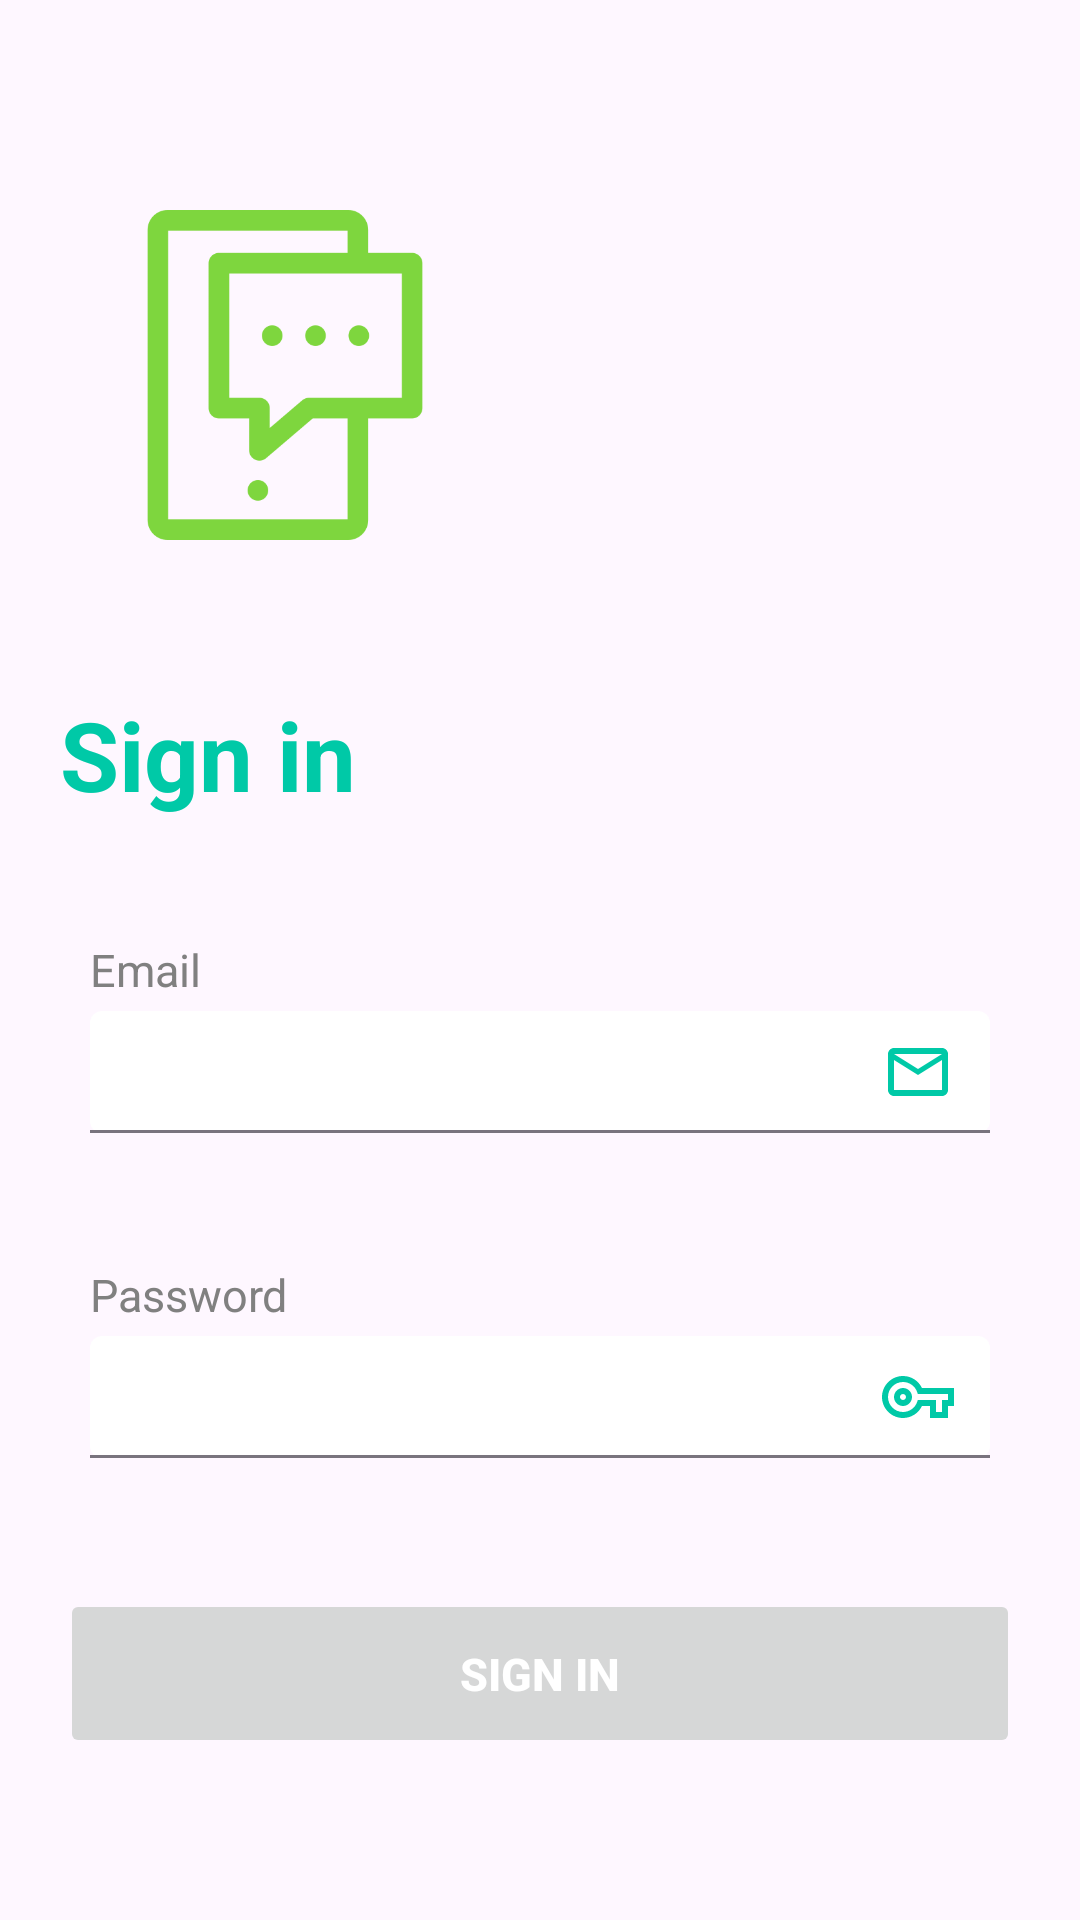

Screen size 1080px×1920px. Icon name, then its box in pixels as rect(x1, y1, x2, y2):
chat: rect(147, 210, 423, 540)
